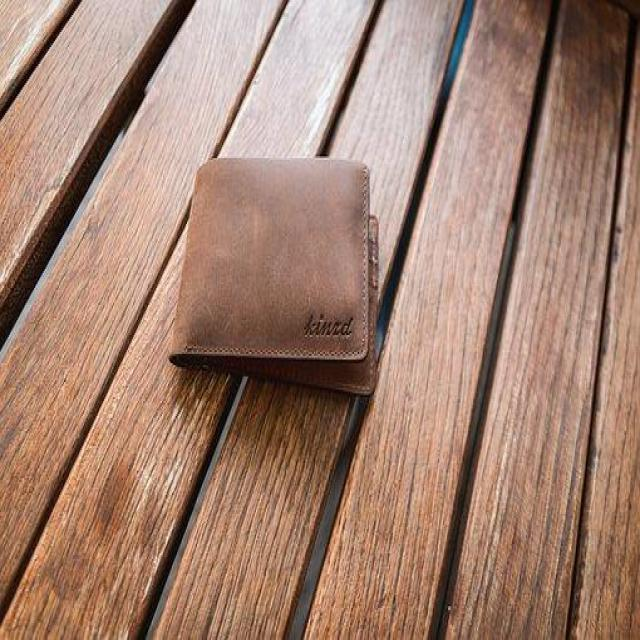cuzdan: (159, 113, 427, 418)
